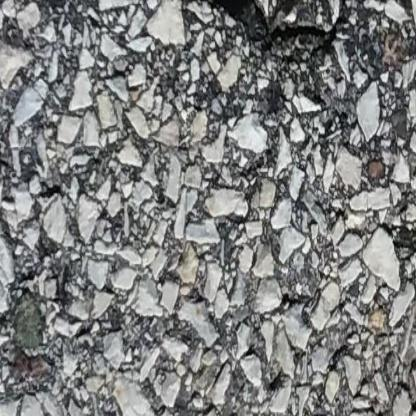Cracks: (189, 0, 416, 62)
